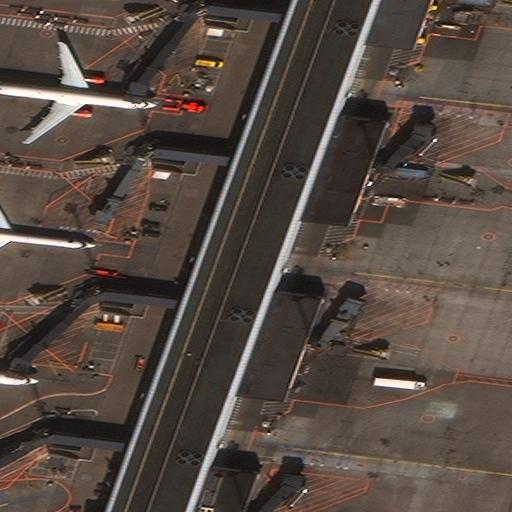Medium Civil Transport: (0, 41, 162, 144), (0, 201, 103, 262)
